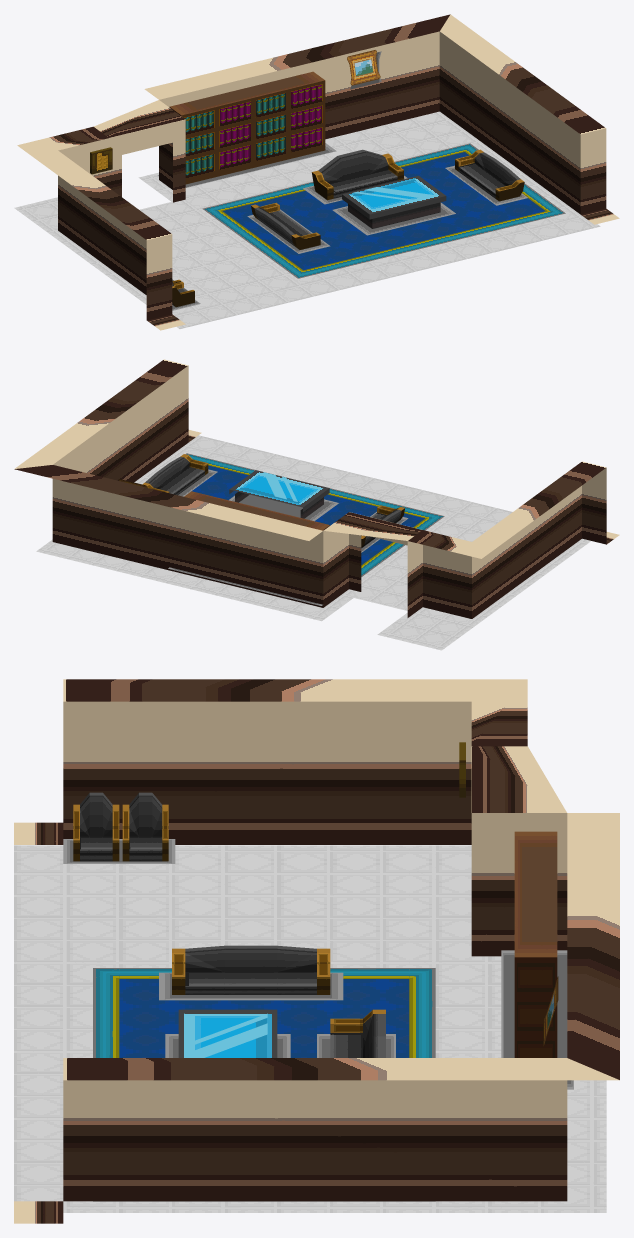
Rendered from ROOM31-1.obj.
3 renders of one model, top to bottom at view 1: azimuth 30°, elevation 25°; view 2: azimuth 150°, elevation 25°; view 3: azimuth 270°, elevation 25°, orthographic. The views are drawn at different scales.
Visible parts, largest first — view 1: polygon3, polygon0, polygon2, polygon5, polygon9, polygon1, polygon7, polygon4, polygon6, polygon8, polygon11, polygon10; view 2: polygon3, polygon0, polygon2, polygon4, polygon5, polygon1, polygon6, polygon8; view 3: polygon3, polygon0, polygon5, polygon2, polygon8, polygon6, polygon1, polygon4.
Part boxes in pixels (<box>): polygon3: <box>17,14,619,330</box>; polygon0: <box>14,111,600,328</box>; polygon2: <box>223,152,545,270</box>; polygon5: <box>172,149,524,307</box>; polygon9: <box>185,80,325,184</box>; polygon1: <box>202,143,565,278</box>; polygon7: <box>181,89,288,179</box>; polygon4: <box>342,175,446,228</box>; polygon6: <box>157,51,527,310</box>; polygon8: <box>169,71,324,115</box>; polygon11: <box>347,50,380,85</box>; polygon10: <box>90,147,112,174</box>; polygon3: <box>14,359,619,618</box>; polygon0: <box>36,435,590,650</box>; polygon2: <box>192,465,424,564</box>; polygon4: <box>229,470,329,518</box>; polygon5: <box>142,454,404,547</box>; polygon1: <box>185,453,444,576</box>; polygon6: <box>168,469,408,605</box>; polygon8: <box>184,491,329,530</box>; polygon3: <box>14,679,619,1223</box>; polygon0: <box>14,845,606,1212</box>; polygon5: <box>73,792,385,1057</box>; polygon2: <box>119,979,409,1057</box>; polygon8: <box>514,831,557,1057</box>; polygon6: <box>63,839,573,1089</box>; polygon1: <box>93,968,435,1201</box>; polygon4: <box>178,1009,277,1057</box>.
Size of the model in its own units: 9 by 1.56 by 5.75.
13 materials, 13 textured.
